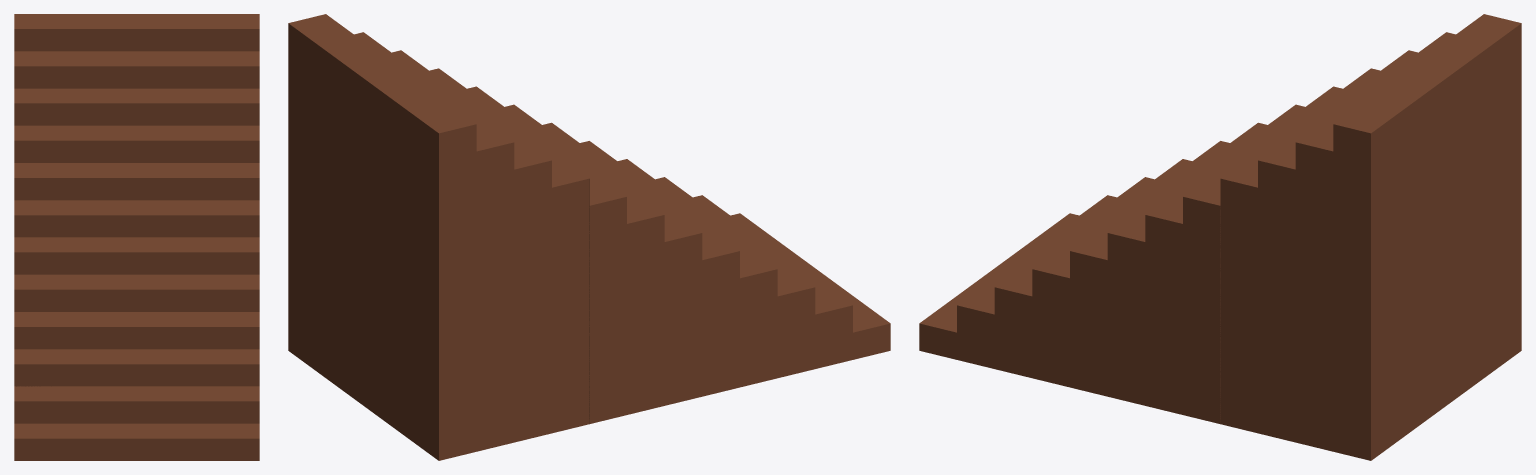
Rendered from wooden_stair.glb.
3 views of the same model, side by side, from view 1: azimuth 30°, elevation 25°; view 2: azimuth 150°, elevation 25°; view 3: azimuth 270°, elevation 25° (orthographic). The views are drawn at different scales.
Visible parts, largest first — view 1: WoodenStair; view 2: WoodenStair; view 3: WoodenStair.
Part boxes in pixels (x1,y1,x2,y2): WoodenStair: (14, 14, 259, 460); WoodenStair: (288, 14, 890, 460); WoodenStair: (919, 14, 1521, 460).
Bounding box in the file's own units: 1.73 × 1.2 × 2.
1 material, 1 textured.
